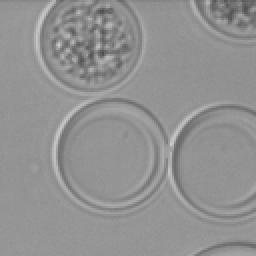picoshell: (52, 98, 168, 214), (166, 104, 256, 220), (34, 0, 144, 94), (190, 0, 256, 45), (192, 242, 254, 254)
